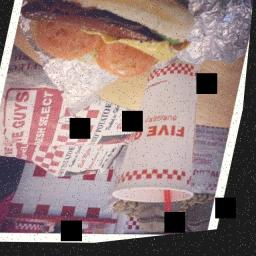hotdog: (12, 0, 195, 57)
